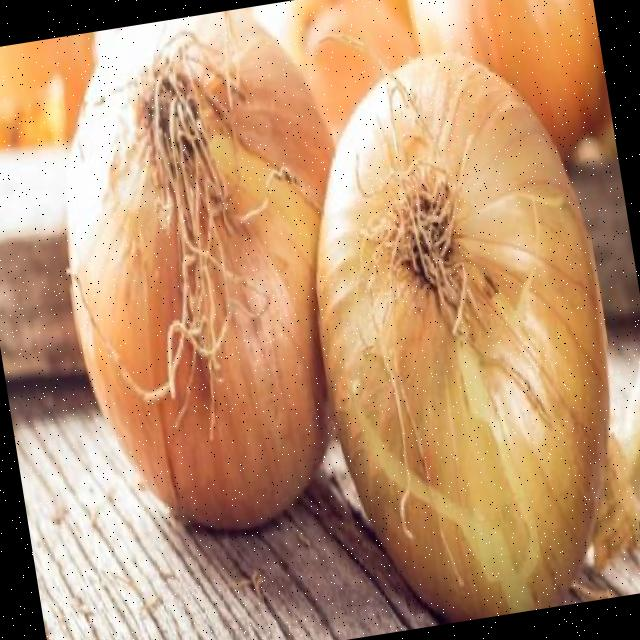Onion: (317, 55, 610, 623), (67, 11, 331, 531)
